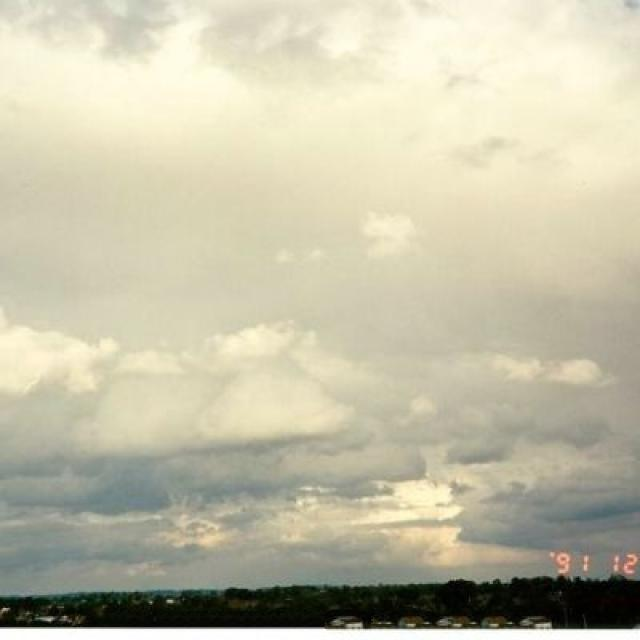Ns: (15, 27, 640, 505)
